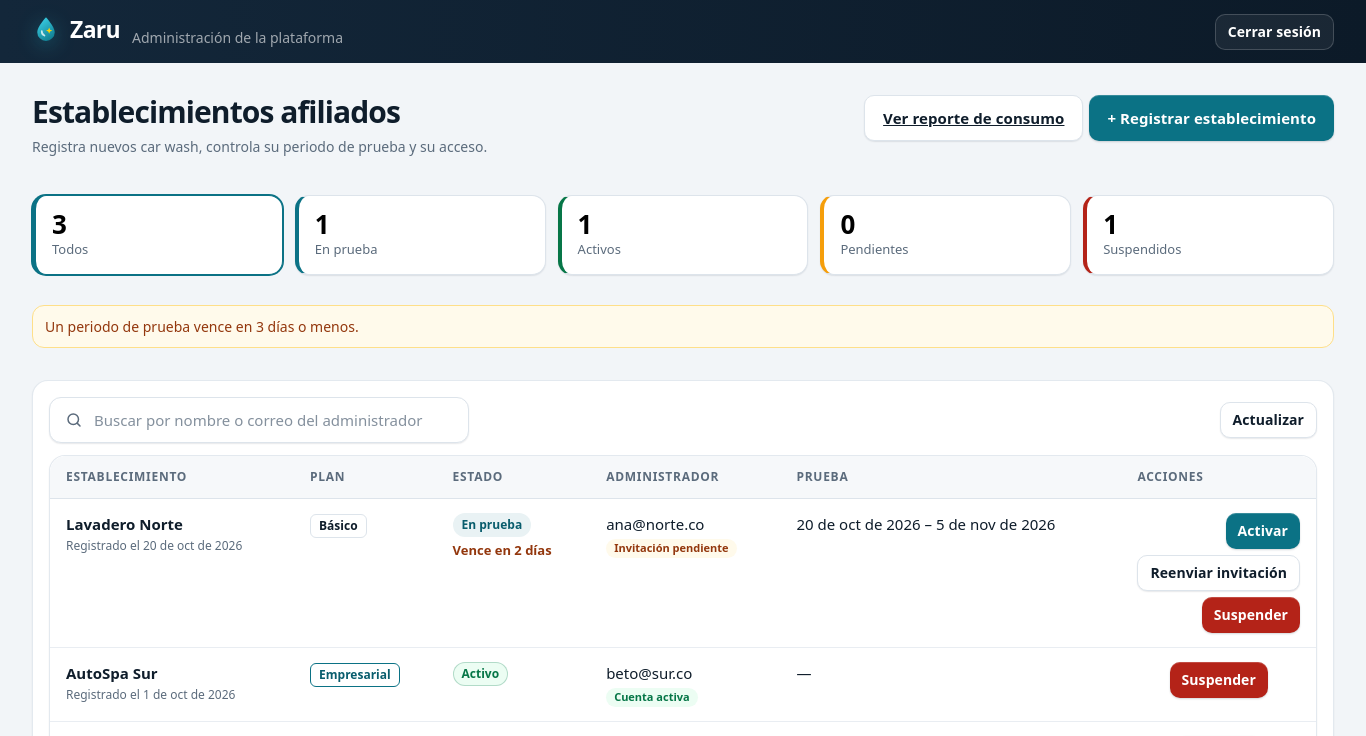
Scenario: HU-57 · panel de superadministración › muestra junto al campo el error que devuelve la API
The image size is (1366, 736).
Click the button "+ Registrar establecimiento": (1212, 118) x1=1090 y1=95 x2=1334 y2=141
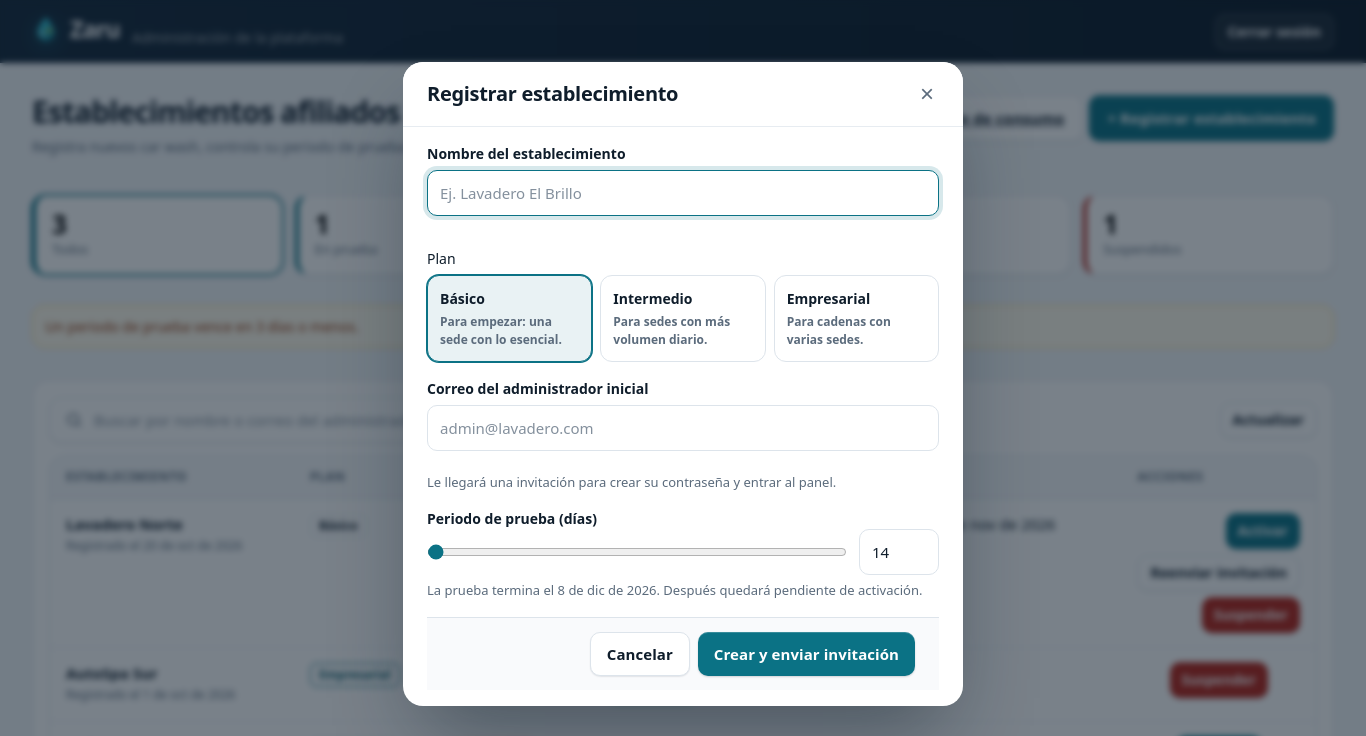
In the field labelled "Nombre del establecimiento": (683, 193) x1=427 y1=170 x2=939 y2=216, type "Otro"
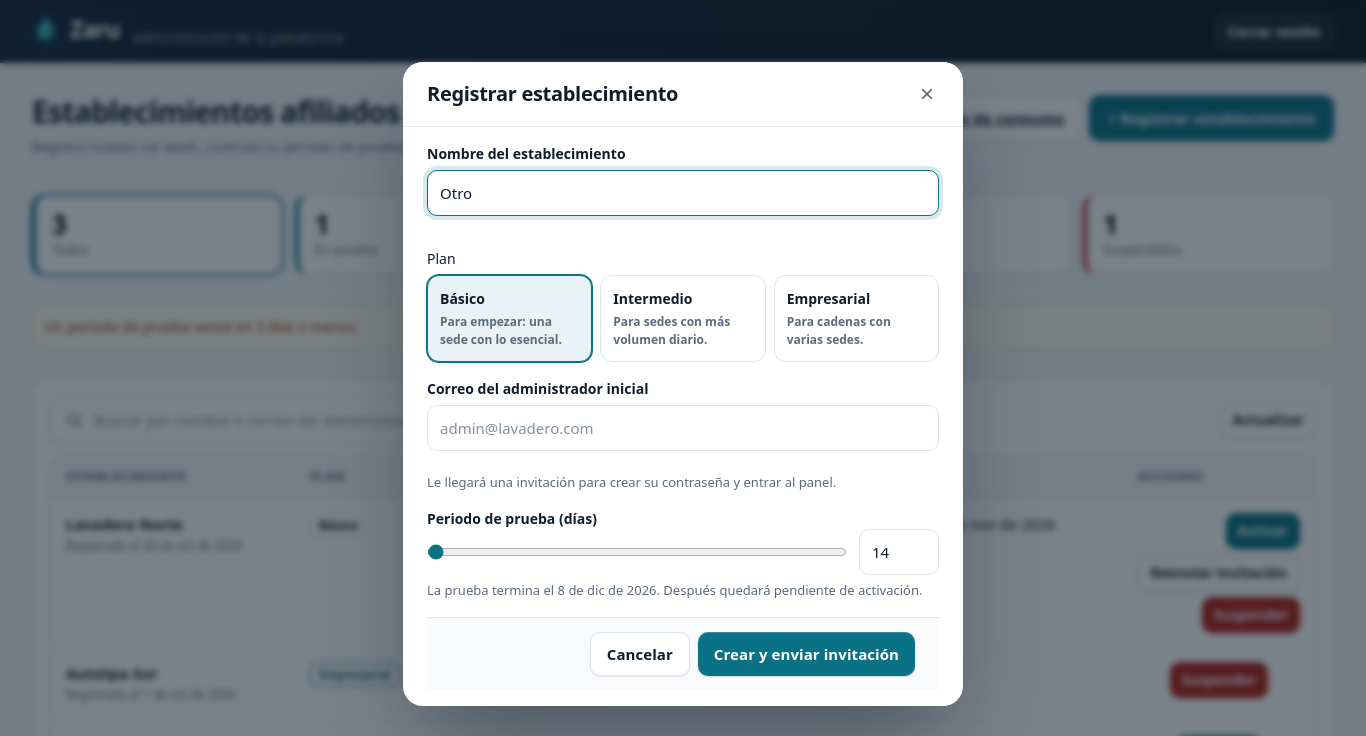
In the field labelled "Correo del administrador inicial": (683, 428) x1=427 y1=405 x2=939 y2=451, type "ya@x.co"
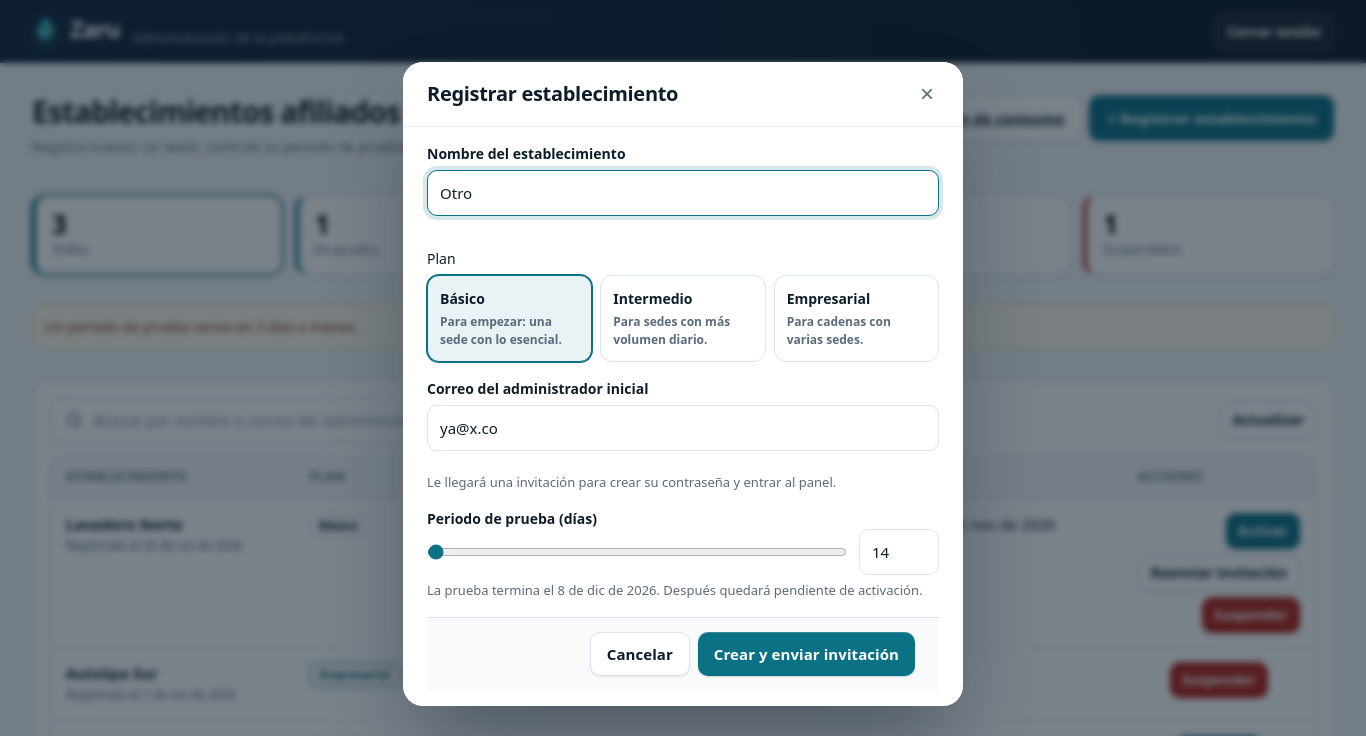
Click the button "Crear y enviar invitación": (806, 654) x1=698 y1=632 x2=915 y2=676
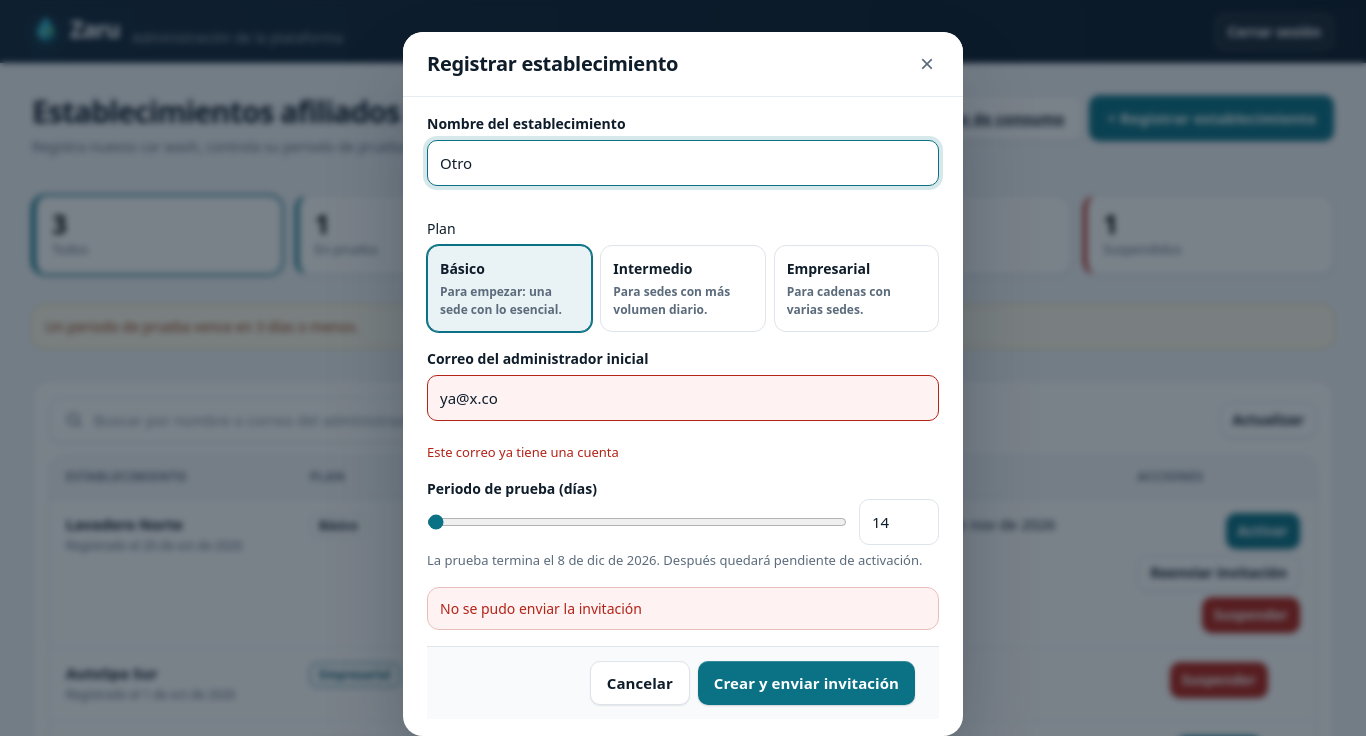
Expected: the text "Este correo ya tiene una cuenta" is shown, x1=427 y1=443 x2=619 y2=461
